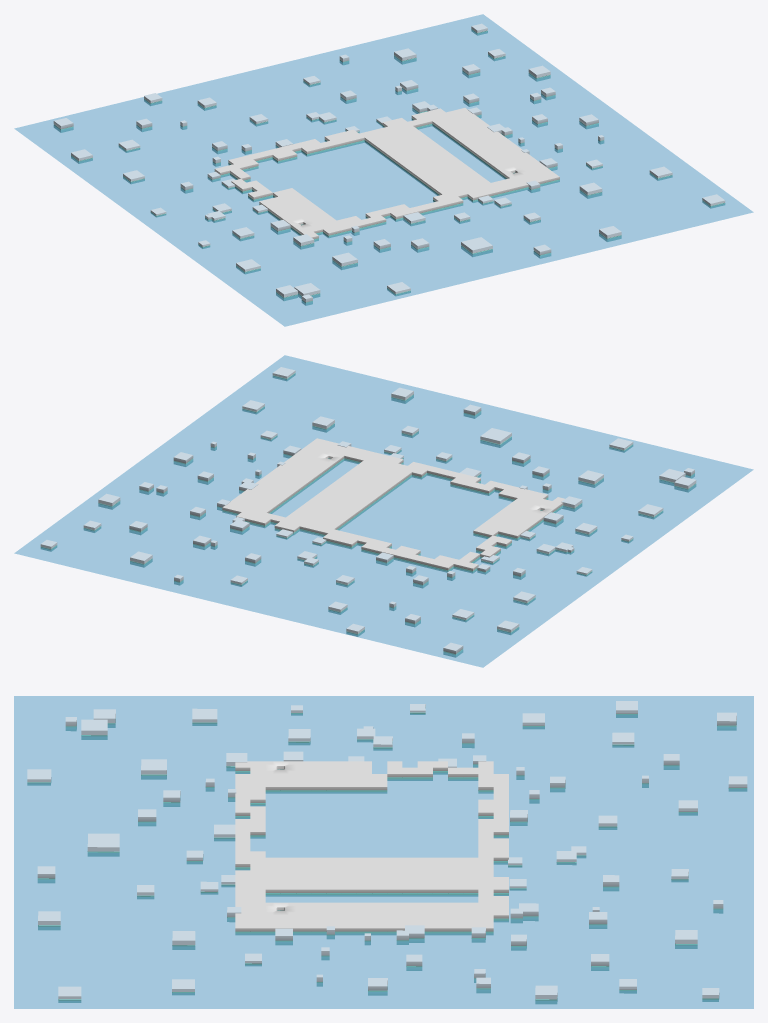
File: level3Ground.fbx
3 views of the same model, one above another, from view 1: azimuth 30°, elevation 25°; view 2: azimuth 150°, elevation 25°; view 3: azimuth 270°, elevation 25° (orthographic). The views are drawn at different scales.
Parts seen in each view (by area): view 1: 平面.003, square_forest_detail.389, 碎冰面.002; view 2: 平面.003, square_forest_detail.389, 碎冰面.002; view 3: 平面.003, square_forest_detail.389, 碎冰面.002.
Boxes of the visible parts, left/top/right/bottom form: 平面.003: left=14, top=14, right=753, bottom=326; square_forest_detail.389: left=214, top=108, right=559, bottom=241; 碎冰面.002: left=53, top=23, right=725, bottom=305; 平面.003: left=14, top=355, right=753, bottom=667; square_forest_detail.389: left=222, top=438, right=564, bottom=573; 碎冰面.002: left=40, top=367, right=696, bottom=657; 平面.003: left=14, top=696, right=753, bottom=1008; square_forest_detail.389: left=235, top=761, right=508, bottom=934; 碎冰面.002: left=27, top=701, right=747, bottom=1003.
Bounding box in the file's own units: 9735 × 136 × 9735.
